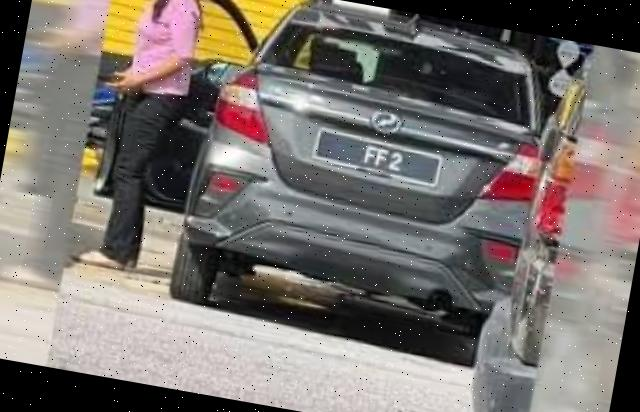License_Plate: (316, 134, 448, 187)
car: (105, 1, 565, 358)
